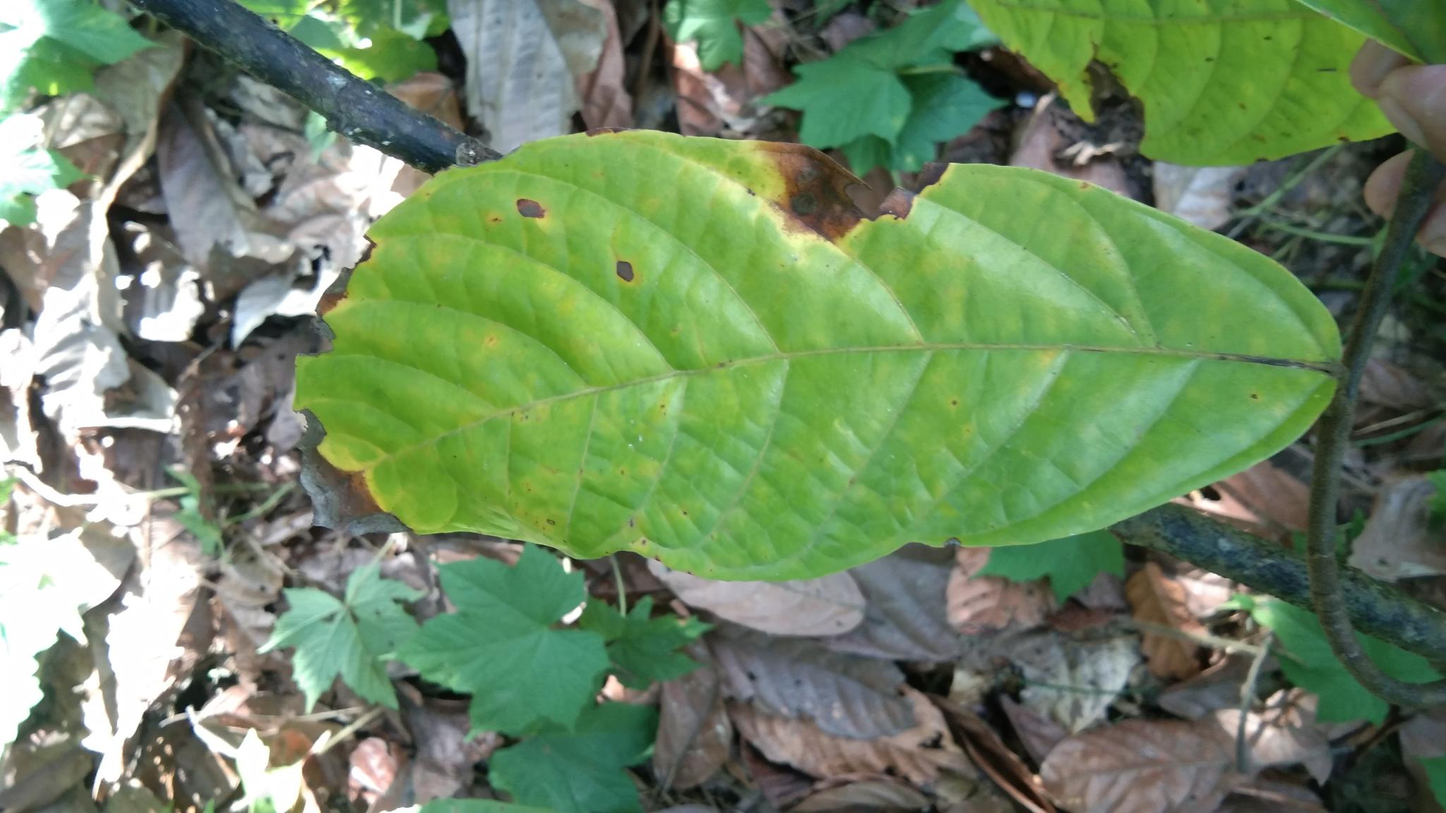Fosforo: (285, 130, 1347, 582)
